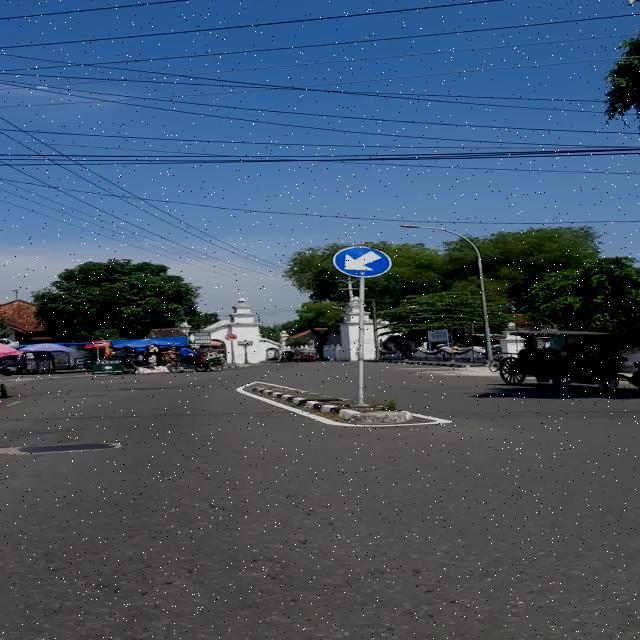Lajur Kiri: (332, 246, 392, 278)
